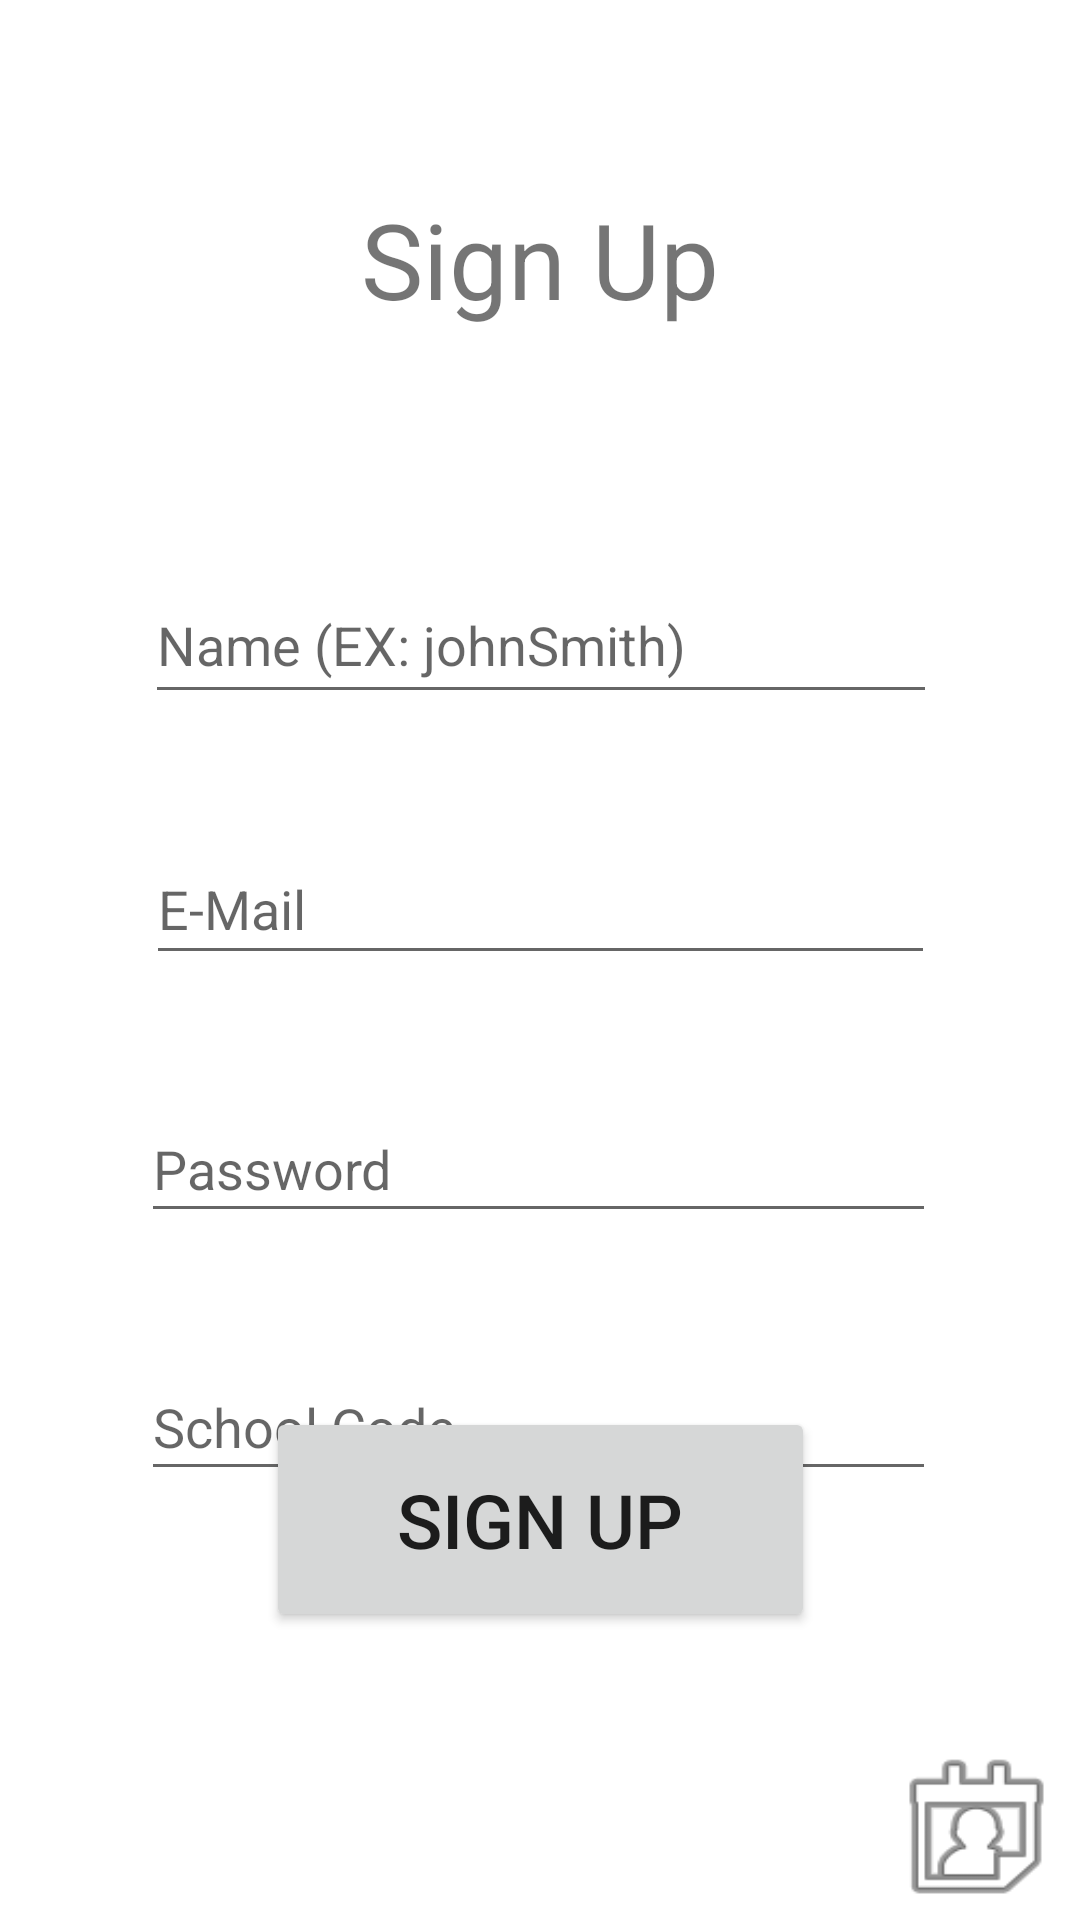

Icons on this 1080px×1920px Android screen, each with its box as (x1, y1, x2, y2):
calendar: (909, 1759, 1044, 1894)
